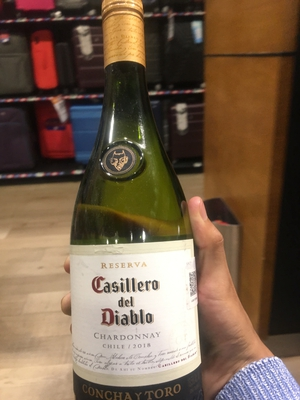casillero del diablo chardonnay: (53, 18, 205, 400)
